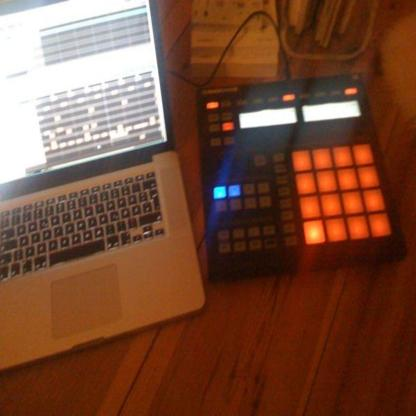board: (3, 10, 206, 374)
